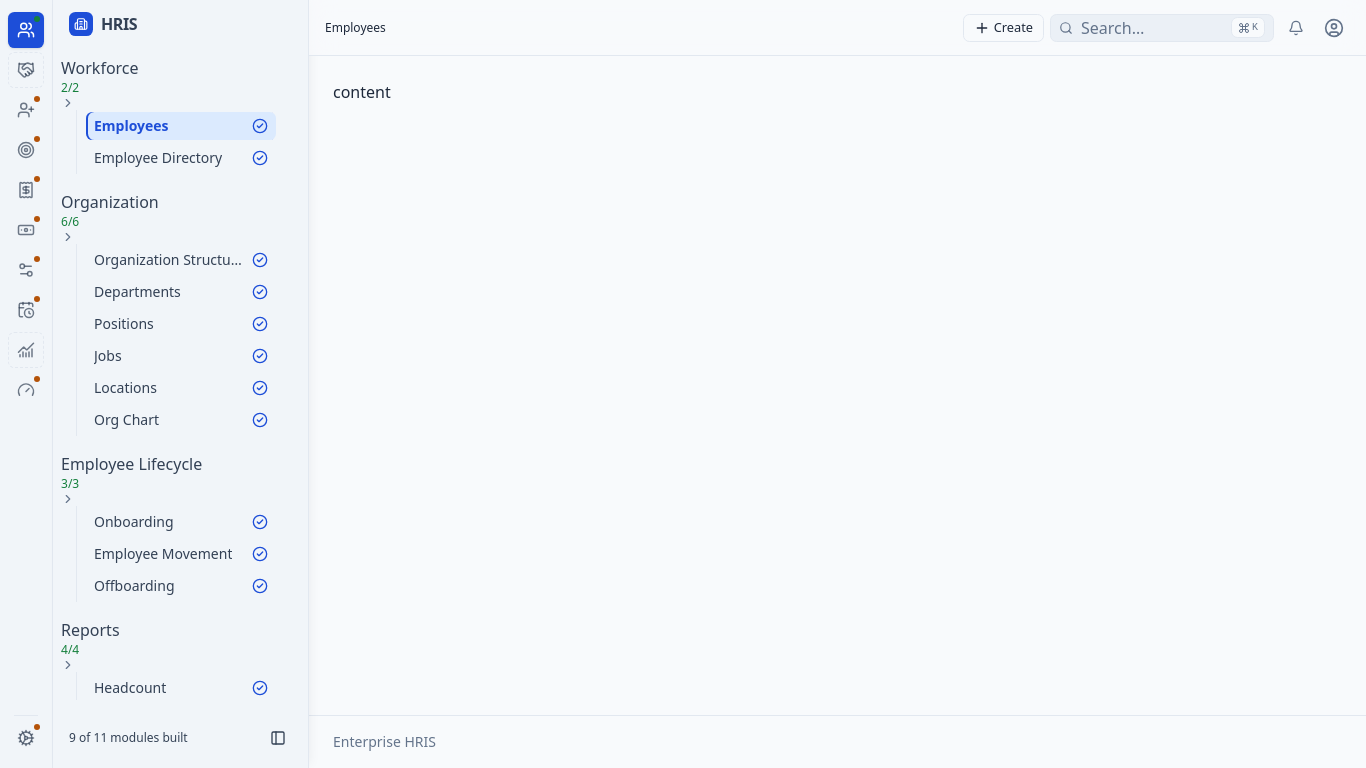
Test case: module selection › reopens the group holding the current page after switching back
The width and height of the screenshot is (1366, 768).
Click the button named "Payroll. Payroll processing, compensation, taxation and stat".
click(26, 230)  # box 8,212 -> 44,248
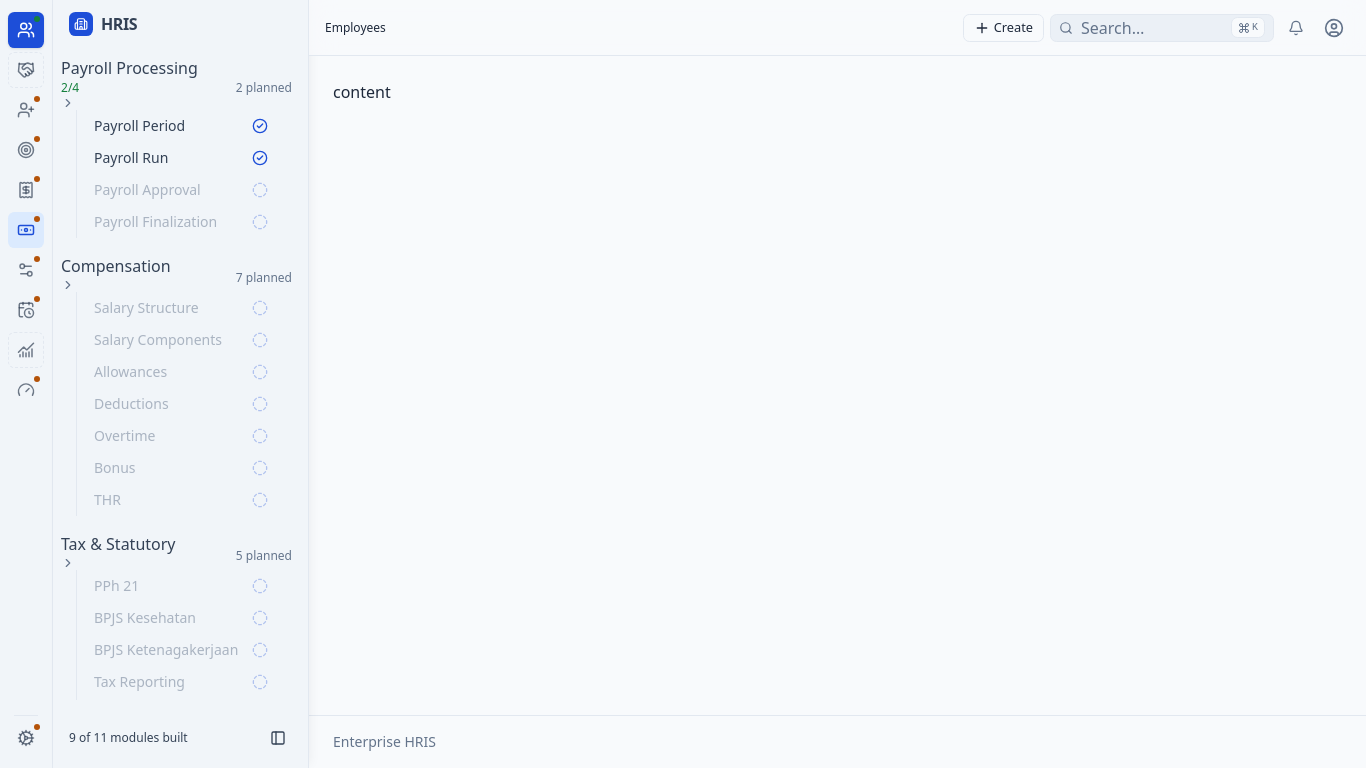
Click the button named "Core HR. Employee master data, organization and employment l".
click(26, 30)  # box 8,12 -> 44,48
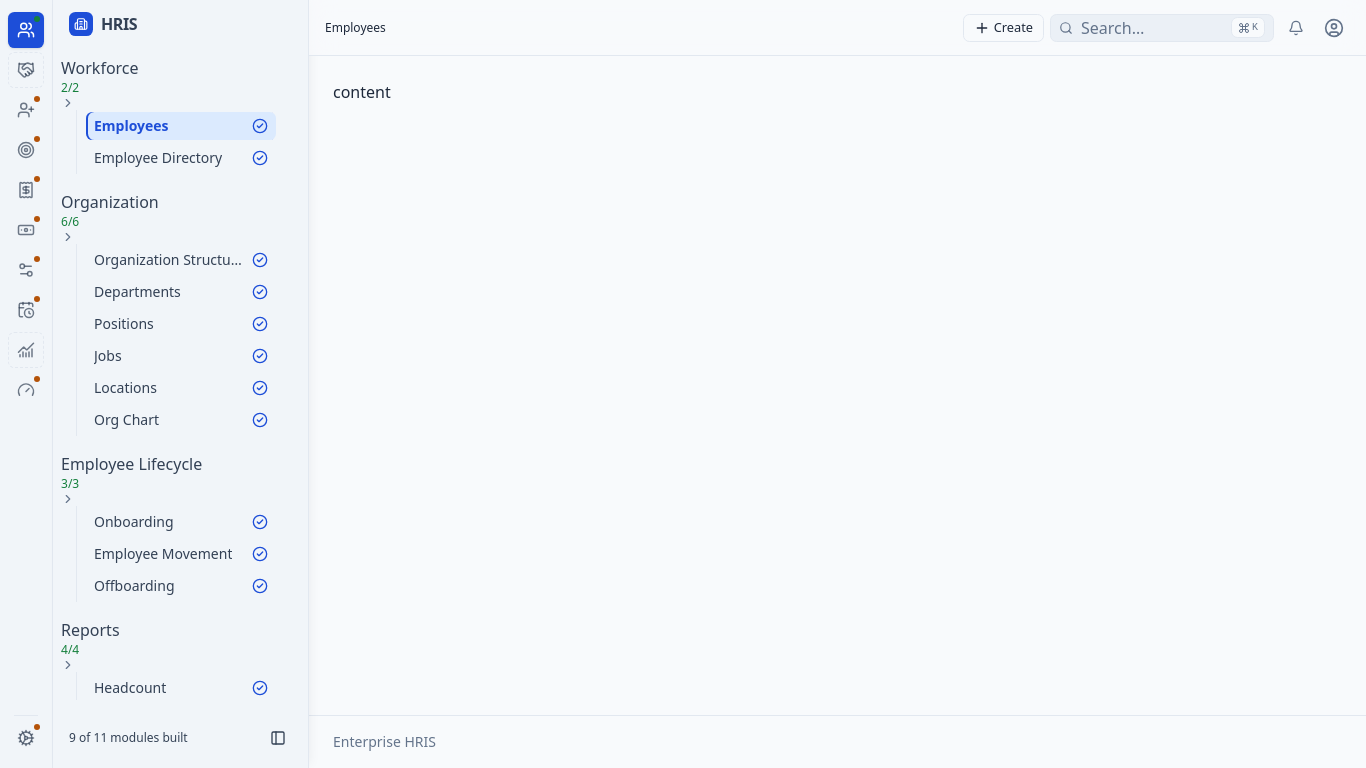
Expected: the 2nd link "Employees" is shown, 86,112 -> 276,140
